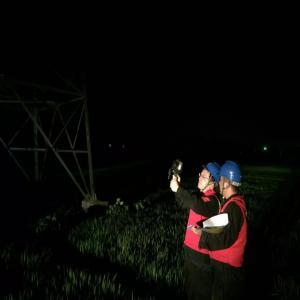blue: (220, 161, 243, 197), (199, 164, 221, 194)
